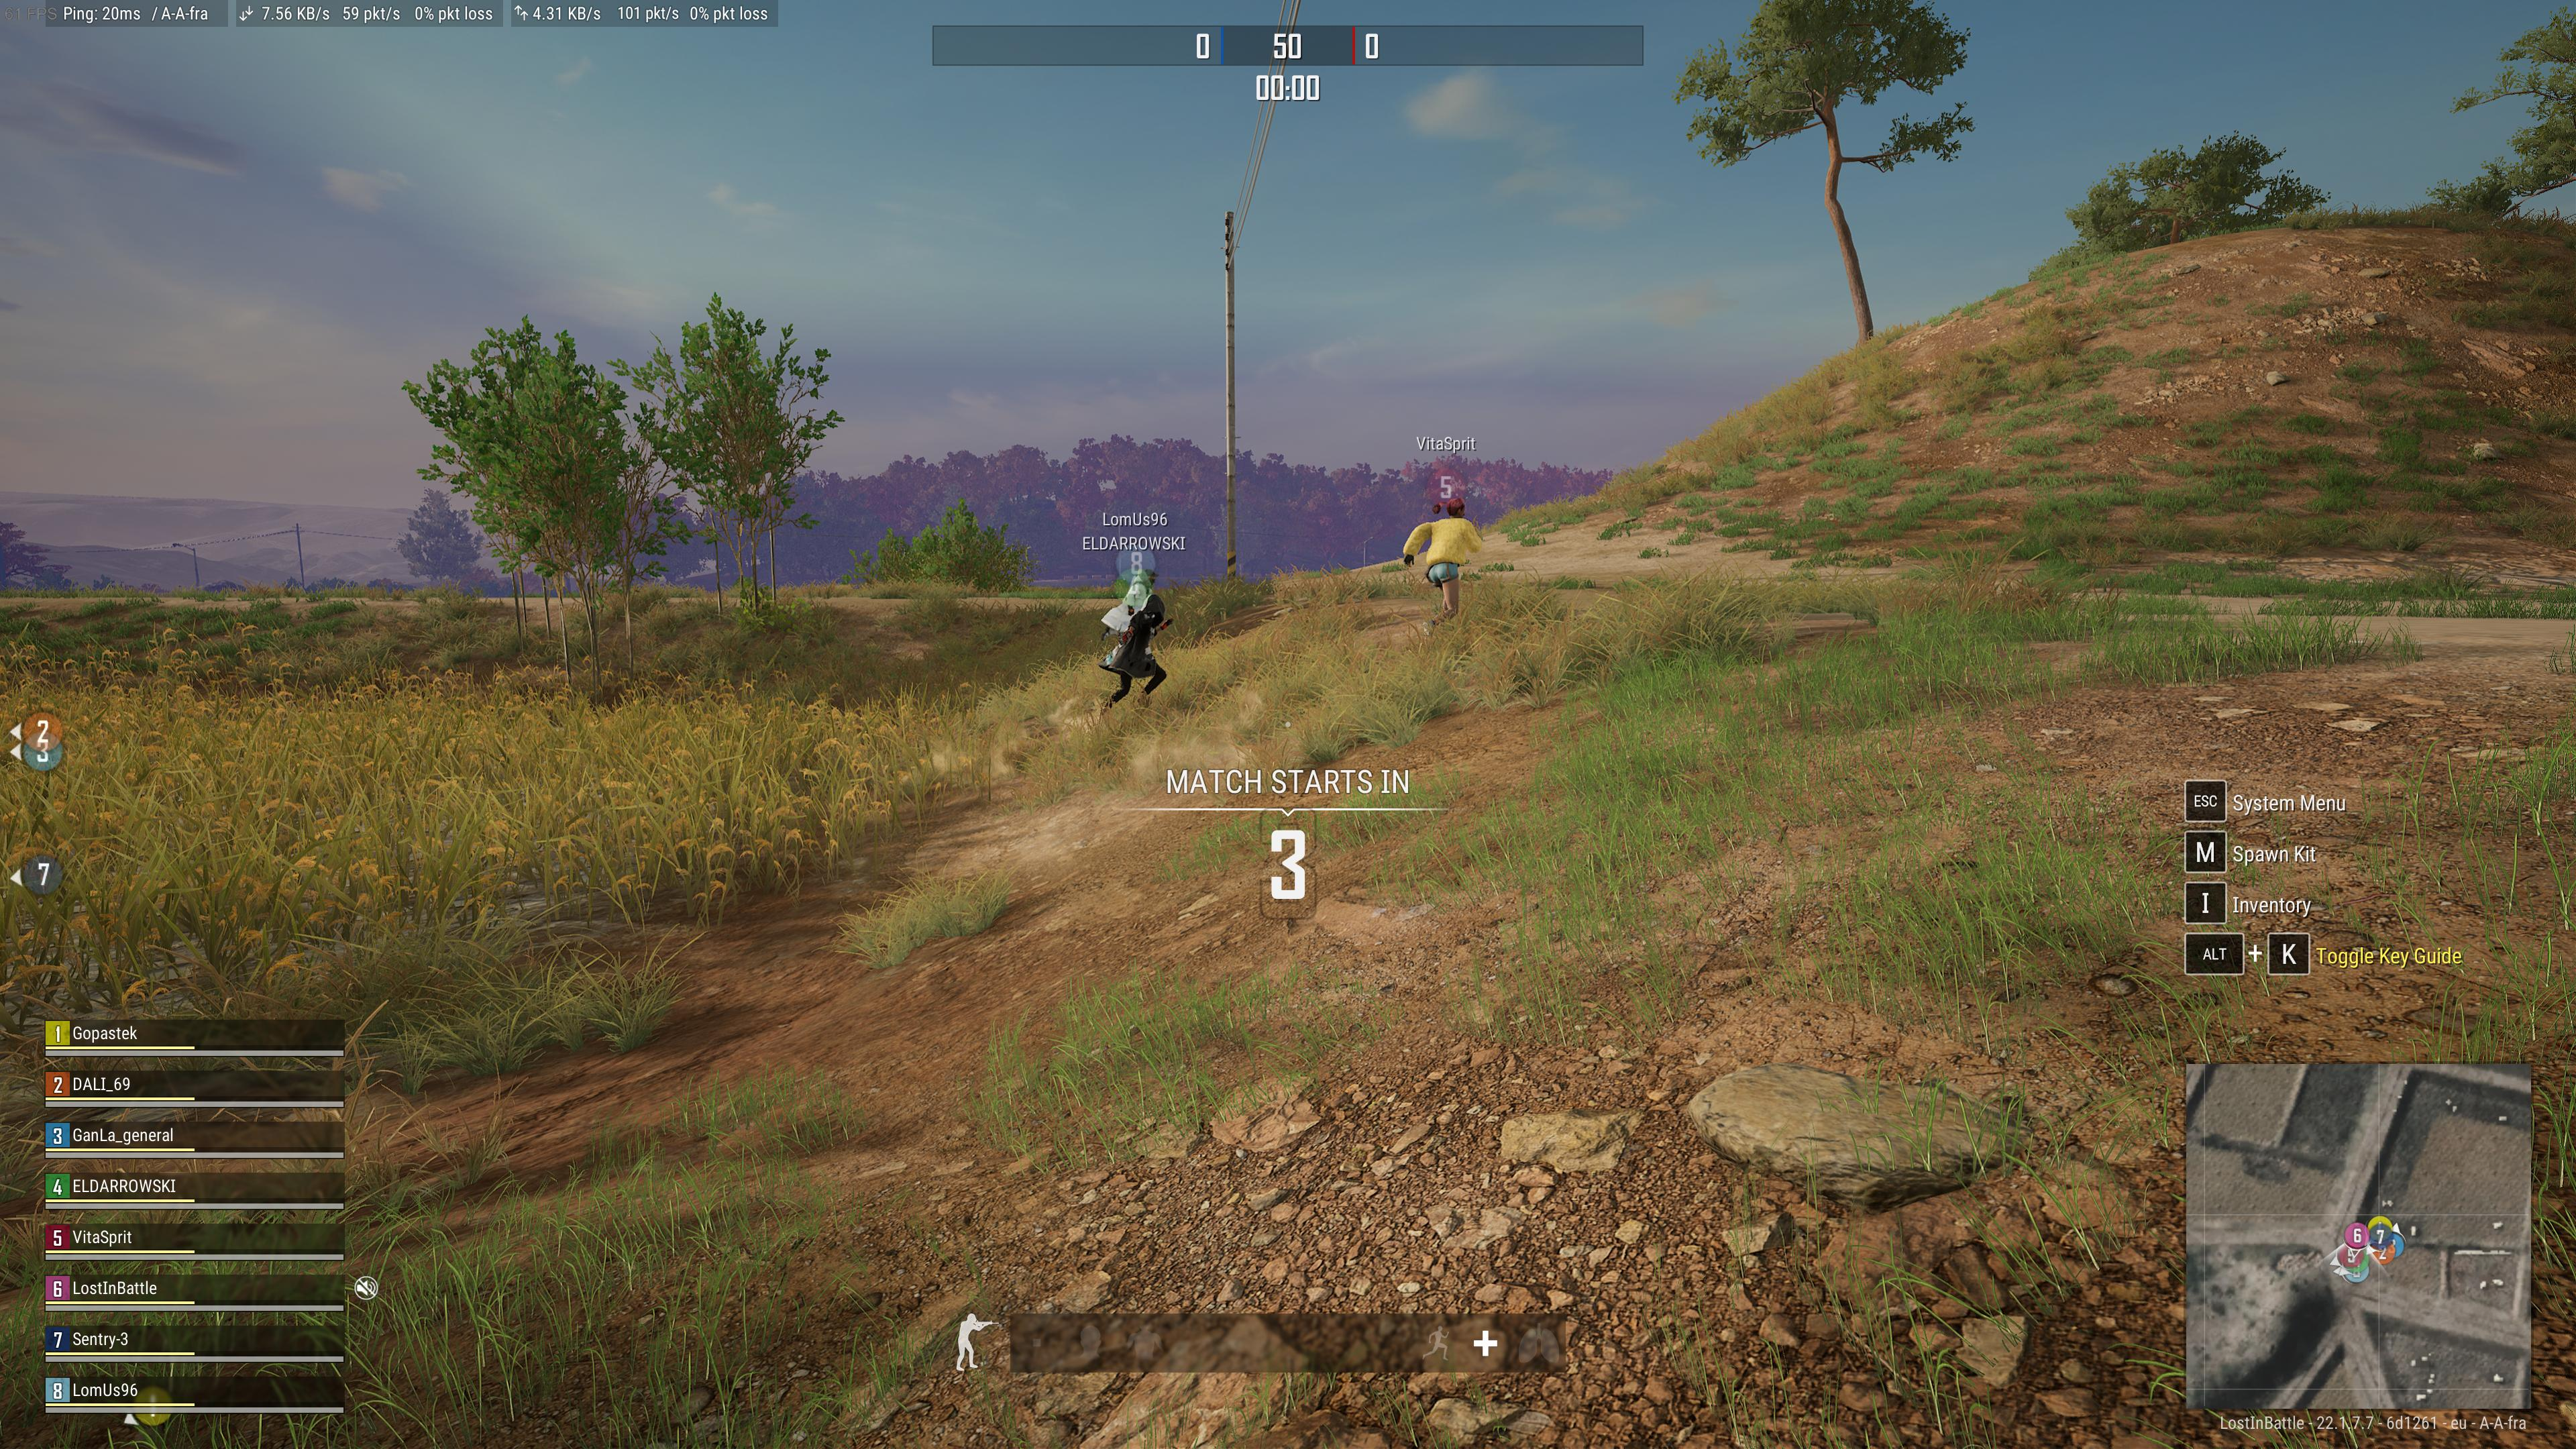friendly: (1401, 483, 1486, 639), (1100, 587, 1175, 713), (1099, 557, 1161, 644)
